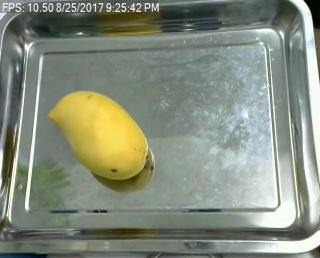Mango: (51, 91, 153, 181)
